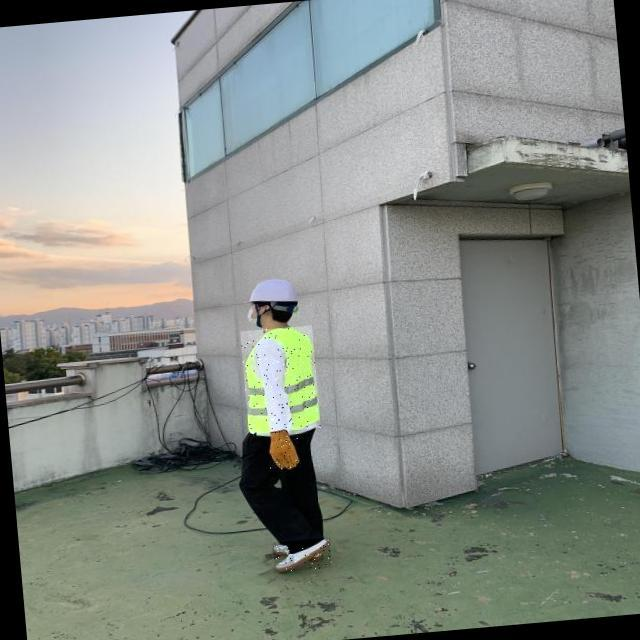Helmet: (245, 275, 304, 304)
Person: (228, 272, 349, 586)
Safety Boot: (273, 537, 332, 572)
Safety Vest: (240, 325, 321, 434)
